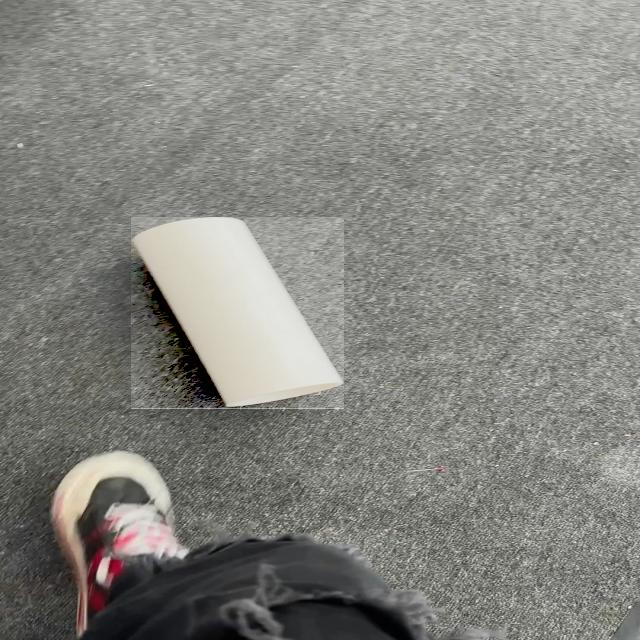Coral: (131, 218, 344, 410)
